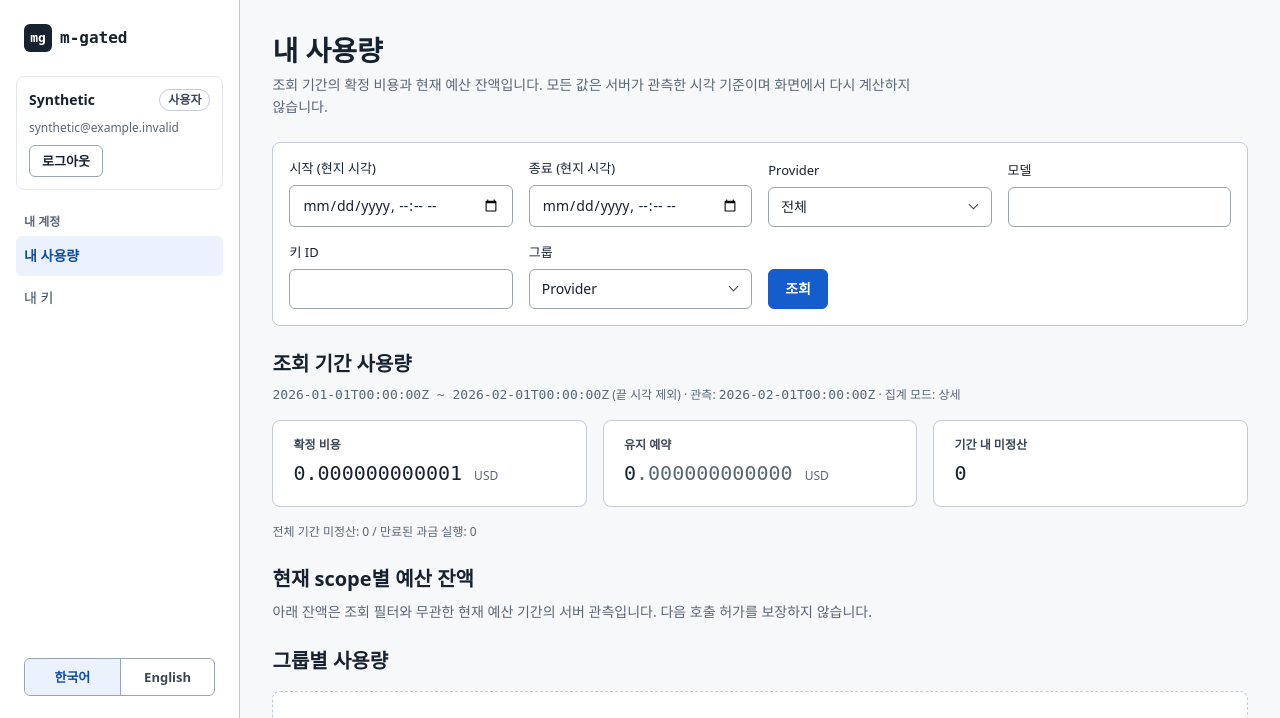
app_discards_final_me_after_microtask_remote_logout_refresh
Check: the heading "조회 기간 사용량" is shown, box top-left (272, 350), bottom-right (412, 377)
Type "private-query" into the field labelled "모델". click: (1119, 207)
box: top-left (1008, 187), bottom-right (1231, 227)
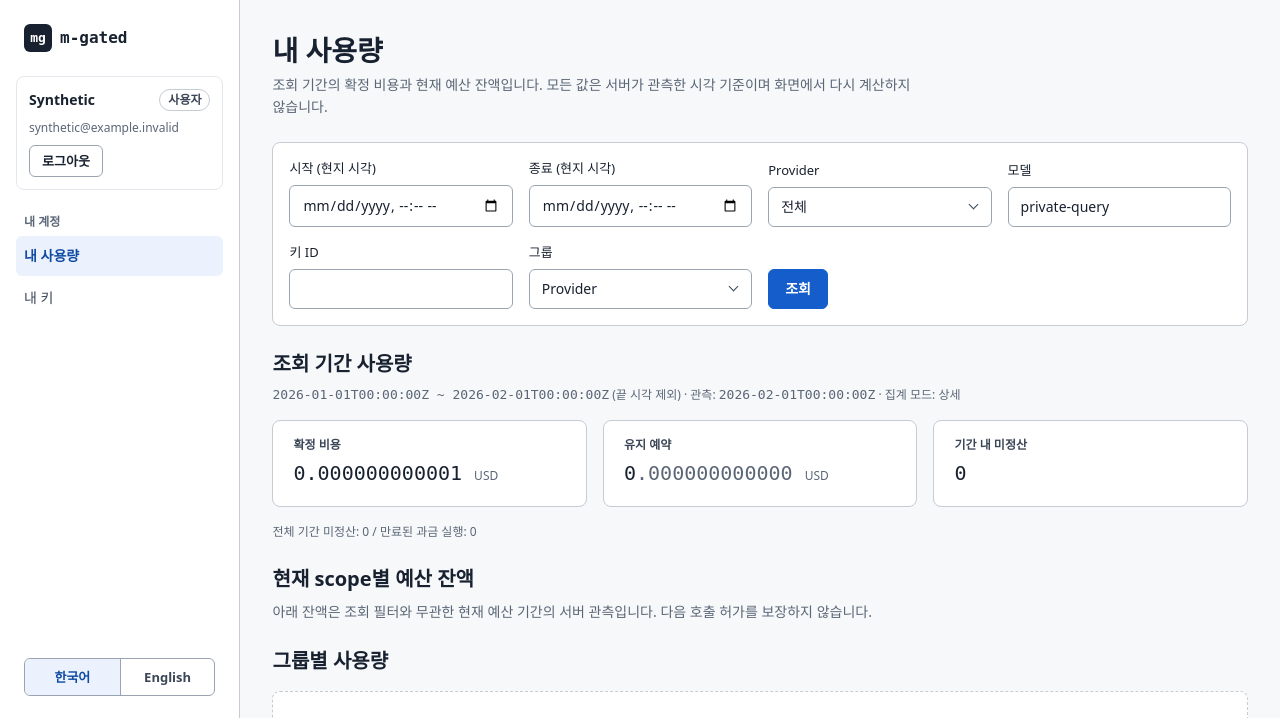
Submit the form named "사용량 조회", box top-left (272, 142), bottom-right (1248, 326)
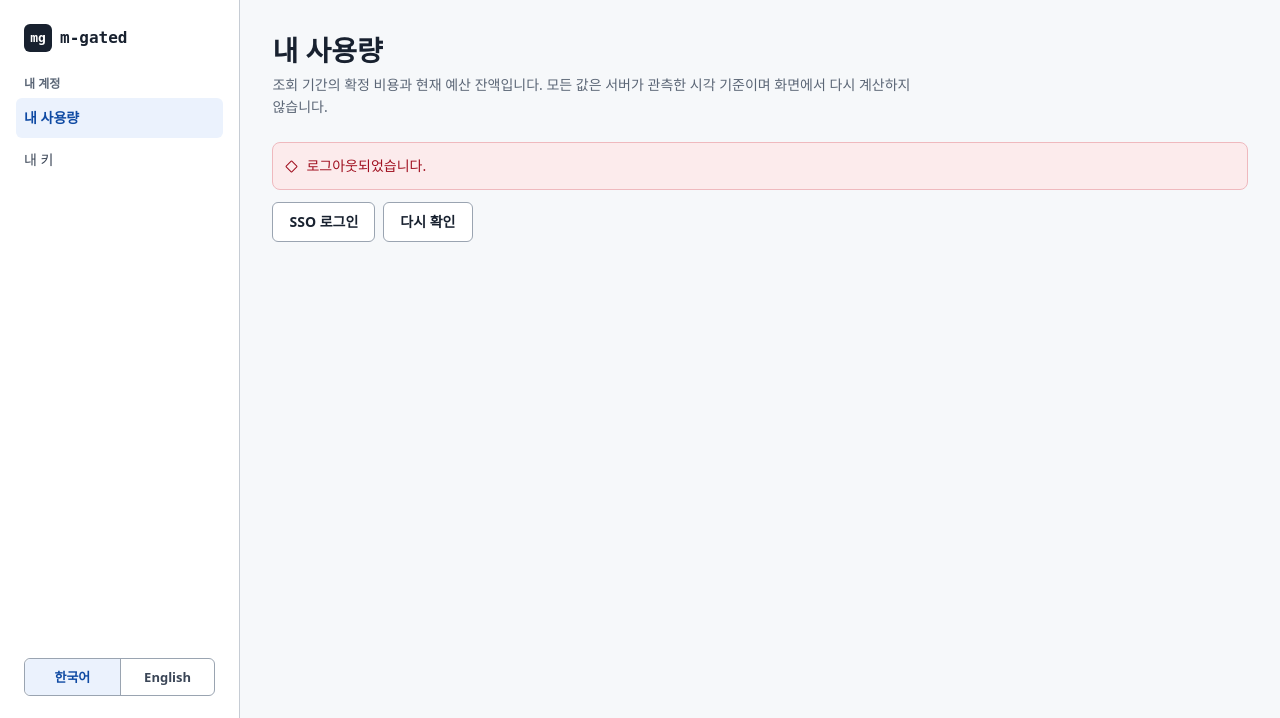
Check: the text "Synthetic" is gone
Check: the heading "조회 기간 사용량" is gone
Check: the text "0.000000000001" is gone
